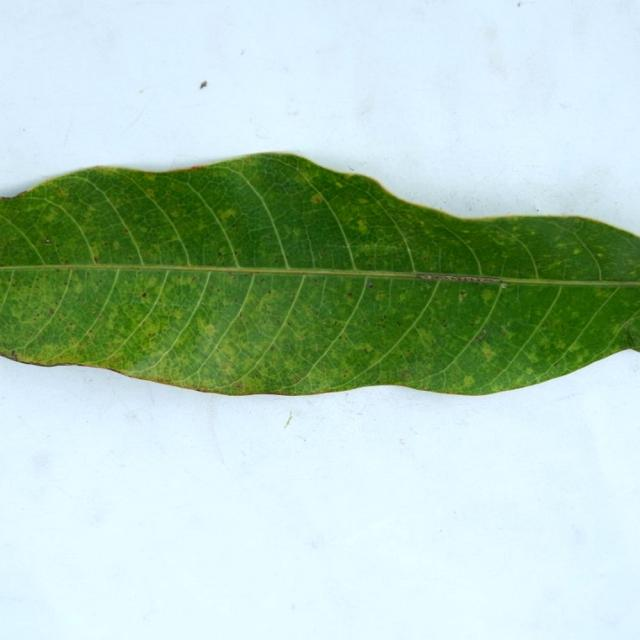Mango: (0, 155, 639, 394)
Powdery_Mildew: (415, 326, 437, 345), (217, 206, 237, 226), (481, 25, 500, 46), (348, 340, 373, 353), (479, 342, 496, 360), (69, 276, 85, 295), (498, 326, 517, 341), (480, 288, 496, 303), (88, 244, 103, 259), (355, 219, 369, 234), (291, 330, 307, 342), (203, 323, 217, 336), (462, 374, 475, 387), (146, 324, 159, 337), (526, 350, 539, 362), (375, 316, 388, 328), (554, 339, 566, 350), (568, 344, 582, 353), (311, 194, 323, 204), (375, 292, 386, 302), (57, 188, 69, 197), (595, 289, 607, 297), (475, 334, 484, 343), (145, 189, 155, 197), (82, 212, 92, 220), (291, 229, 301, 237), (233, 382, 243, 390), (556, 243, 568, 249), (525, 367, 534, 375), (459, 290, 467, 299), (500, 326, 509, 334), (572, 248, 582, 255), (357, 199, 368, 205), (318, 250, 325, 257), (474, 319, 481, 326), (627, 259, 635, 265), (628, 271, 635, 277), (442, 321, 448, 328), (596, 253, 604, 258), (61, 260, 69, 265), (226, 271, 234, 276), (141, 292, 147, 298), (347, 292, 353, 298), (259, 277, 265, 283), (269, 345, 275, 351), (381, 315, 387, 321), (367, 282, 373, 288), (294, 376, 300, 382), (148, 333, 154, 338), (49, 308, 54, 314), (333, 320, 338, 326), (45, 239, 51, 244), (77, 342, 83, 347), (396, 321, 401, 327), (88, 329, 93, 334), (239, 313, 243, 319), (103, 242, 109, 246), (218, 251, 222, 256), (123, 229, 128, 233), (65, 282, 70, 286), (55, 268, 60, 272), (268, 290, 272, 294)
